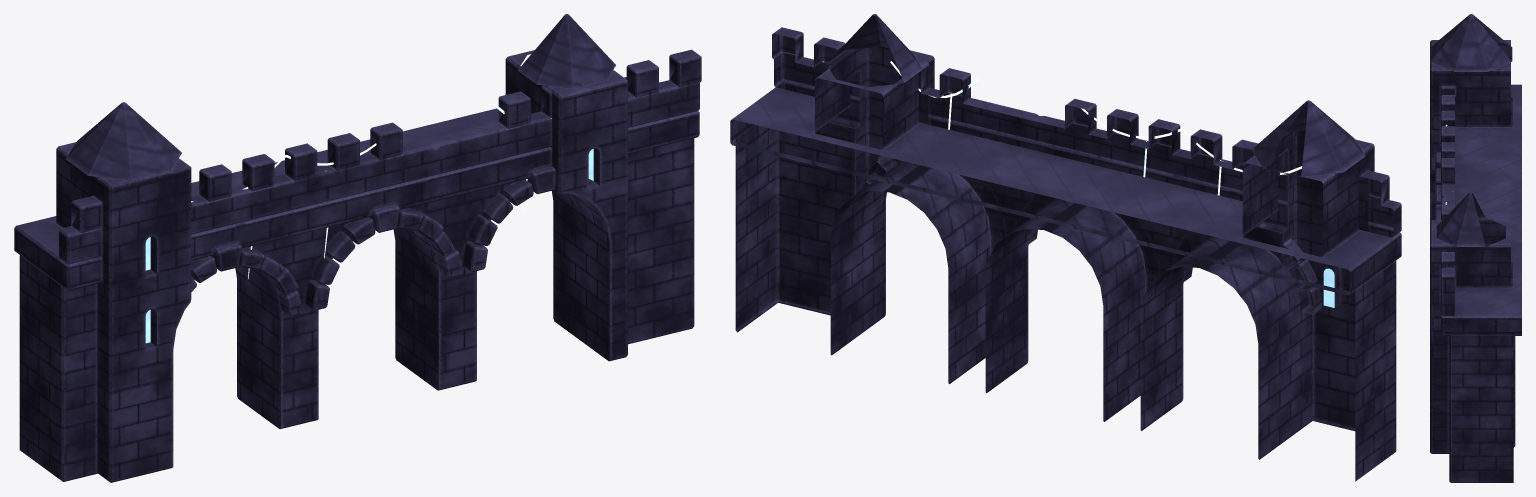
Rendered from Promenade_BG_Near.fbx.
The picture shows the model from 3 angles, left to right: view 1: azimuth 30°, elevation 25°; view 2: azimuth 150°, elevation 25°; view 3: azimuth 270°, elevation 25°; orthographic projection. The views are drawn at different scales.
Parts seen in each view (by area): view 1: Promenade_BG_Near; view 2: Promenade_BG_Near; view 3: Promenade_BG_Near.
Boxes of the visible parts, <box> form: Promenade_BG_Near: <box>14,14,701,482</box>; Promenade_BG_Near: <box>730,14,1401,481</box>; Promenade_BG_Near: <box>1430,14,1521,482</box>.
Size of the model in its own units: 20.05 by 10.6 by 3.34.
